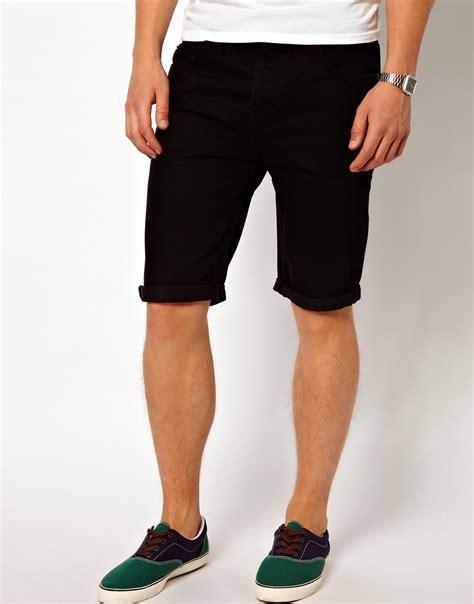short: (137, 39, 381, 310)
